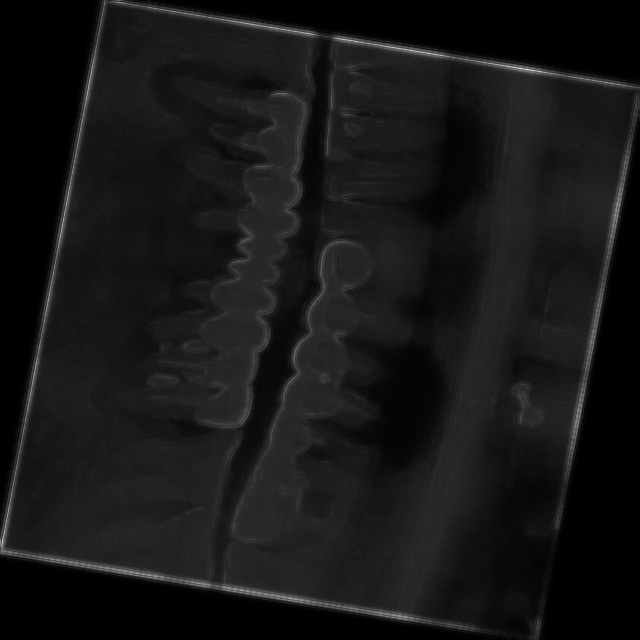Class 1- complete endodontic treatment: (290, 279, 434, 366)
Class 2- incomplete endodontic treatment: (70, 284, 278, 456), (122, 48, 327, 182), (268, 326, 418, 452), (244, 396, 397, 486)
cavity: (208, 483, 388, 579), (168, 180, 304, 253)
